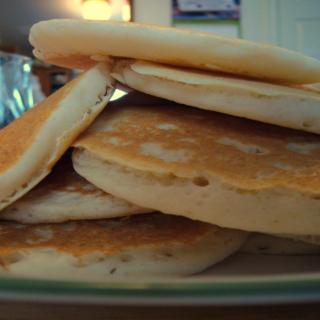Pancake: (70, 92, 320, 236), (27, 21, 320, 88), (0, 206, 248, 282), (0, 59, 113, 214), (113, 62, 320, 134), (2, 162, 160, 229)
